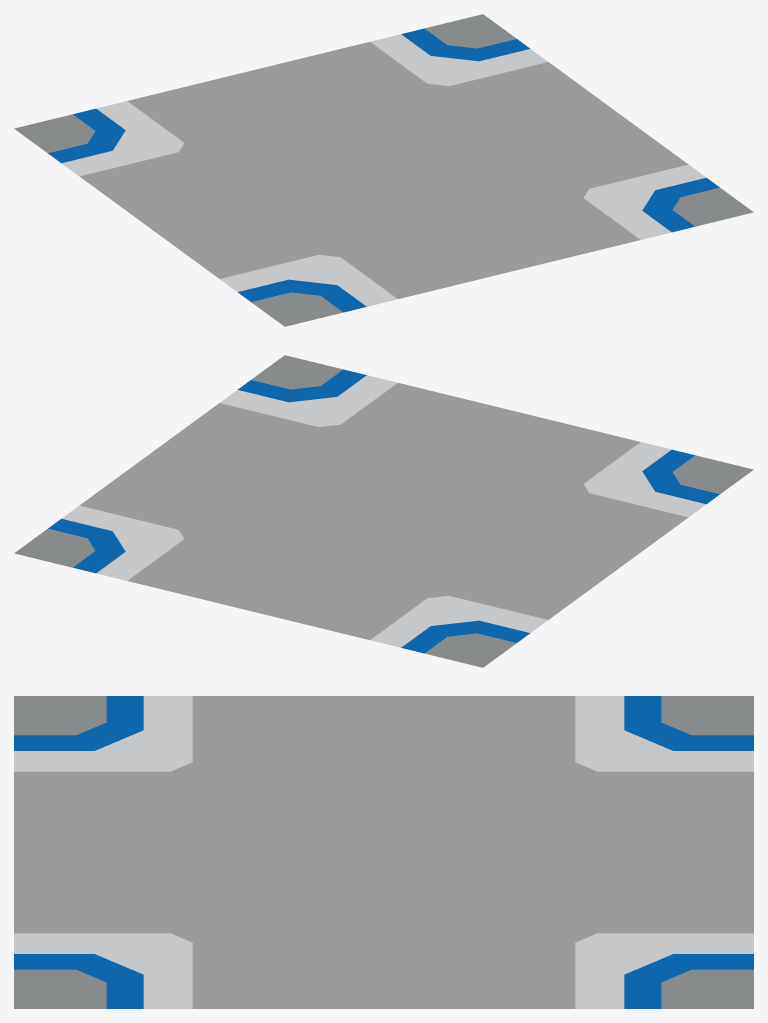
Rendered from Ceiling_type_A_012.fbx.
The picture shows the model from 3 angles, top to bottom: view 1: azimuth 30°, elevation 25°; view 2: azimuth 150°, elevation 25°; view 3: azimuth 270°, elevation 25°; orthographic projection. The views are drawn at different scales.
Parts seen in each view (by area): view 1: Ceiling_type_A_012; view 2: Ceiling_type_A_012; view 3: Ceiling_type_A_012.
Boxes of the visible parts, x1=… form: Ceiling_type_A_012: x1=14, y1=14, x2=753, y2=326; Ceiling_type_A_012: x1=14, y1=355, x2=753, y2=667; Ceiling_type_A_012: x1=14, y1=696, x2=753, y2=1008.
Size of the model in its own units: 400 by 400 by 4.55.
